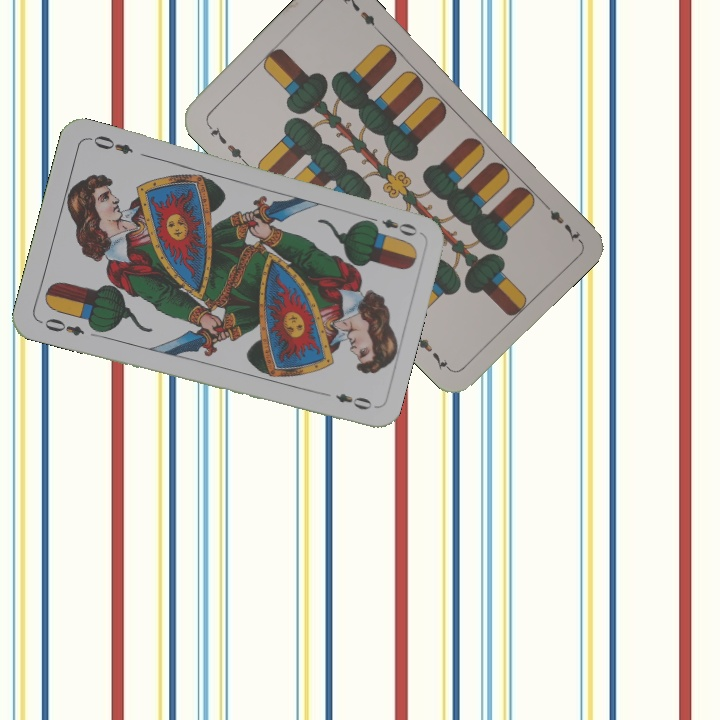E7: (537, 196, 583, 244), (203, 119, 249, 166)
EO: (363, 212, 420, 239), (40, 314, 87, 339)
